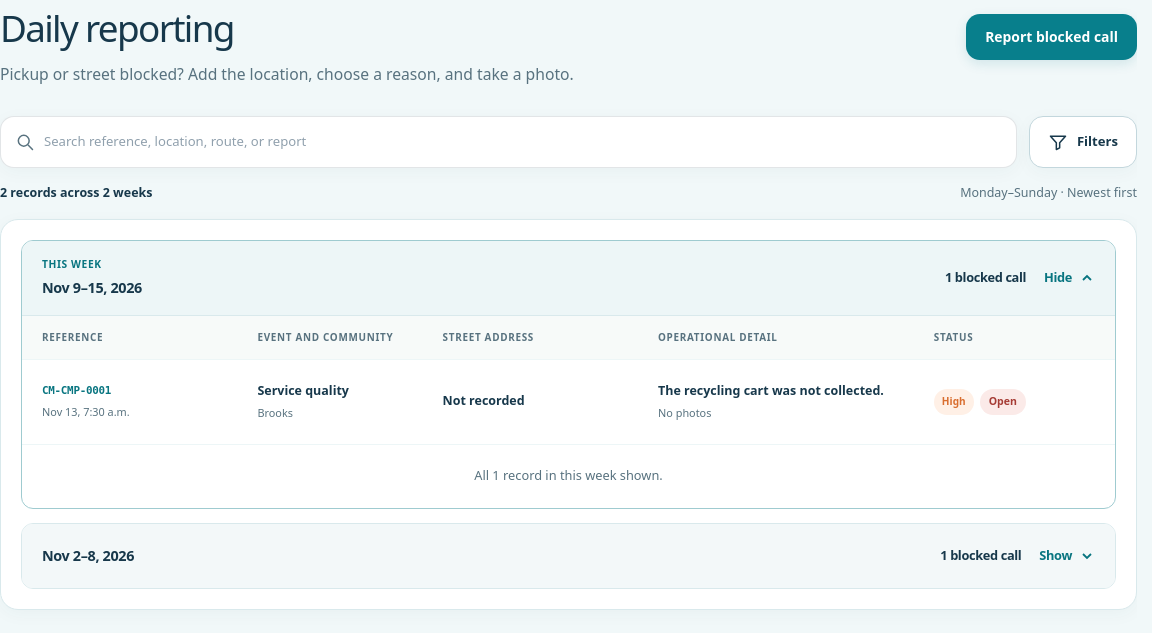
Scenario: lazy register › starts daily with no filters, opens this week, and loads older weeks only on demand
Expected: the button "CM-CMP-0001" is shown, [22,360,1115,444]
Click the button "Nov 2–8, 2026 1 blocked call Show" at (88, 555), box [22,524,1115,588]
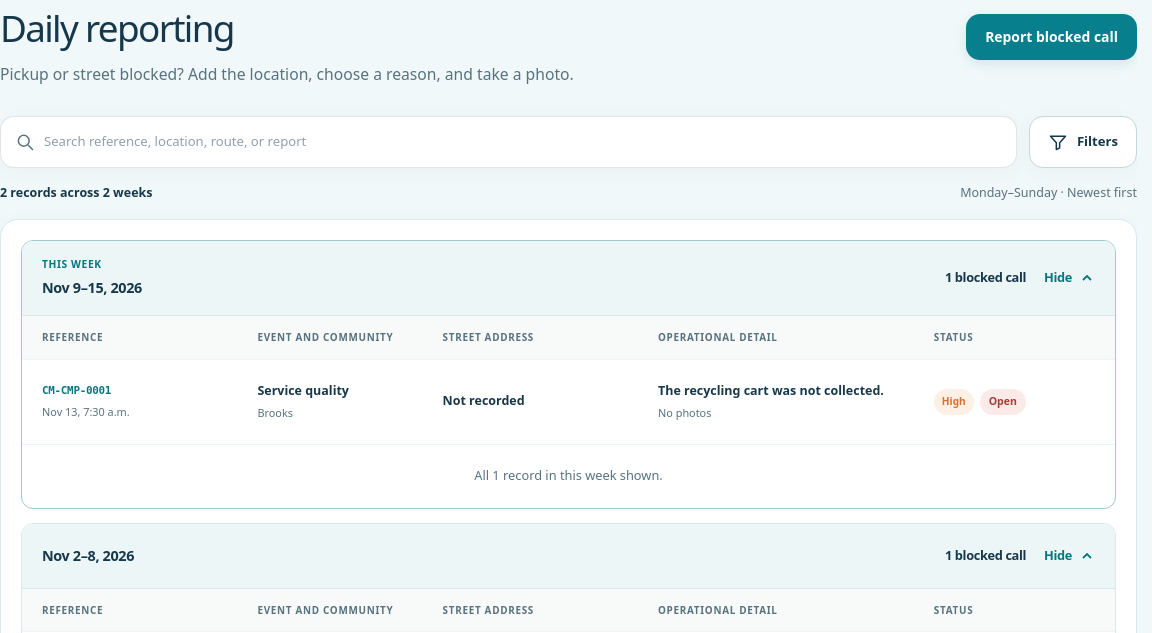
Click the button "Nov 2–8, 2026 1 blocked call Hide" at (88, 555), box [22,524,1115,588]
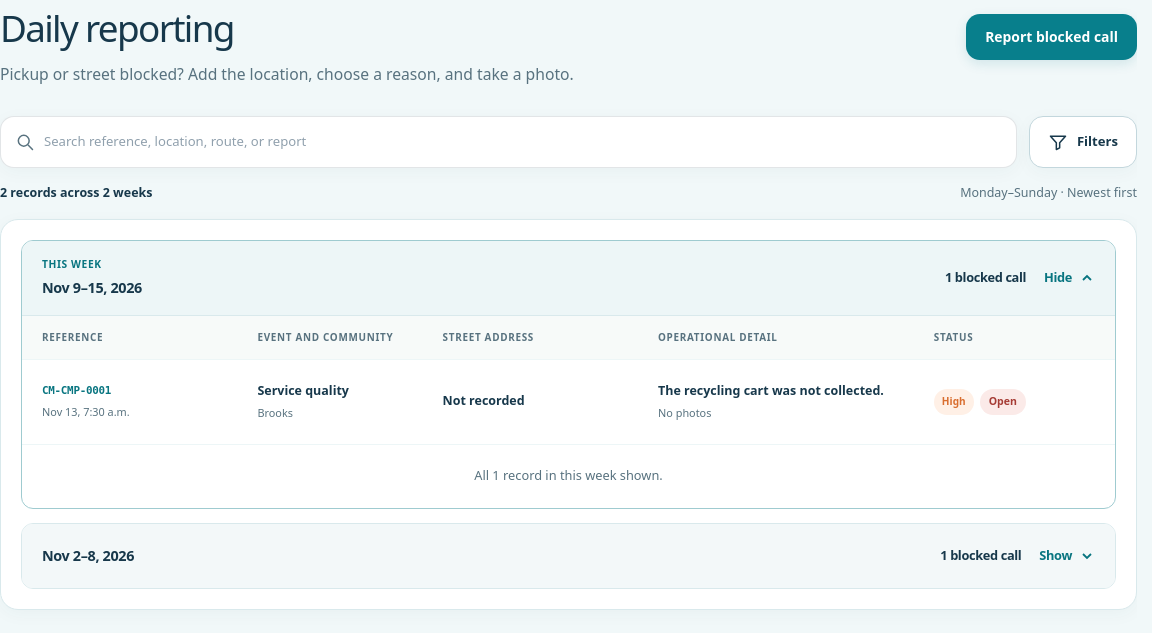
Click the button "Nov 2–8, 2026 1 blocked call Show" at (88, 555), box [22,524,1115,588]
(page scrolled)
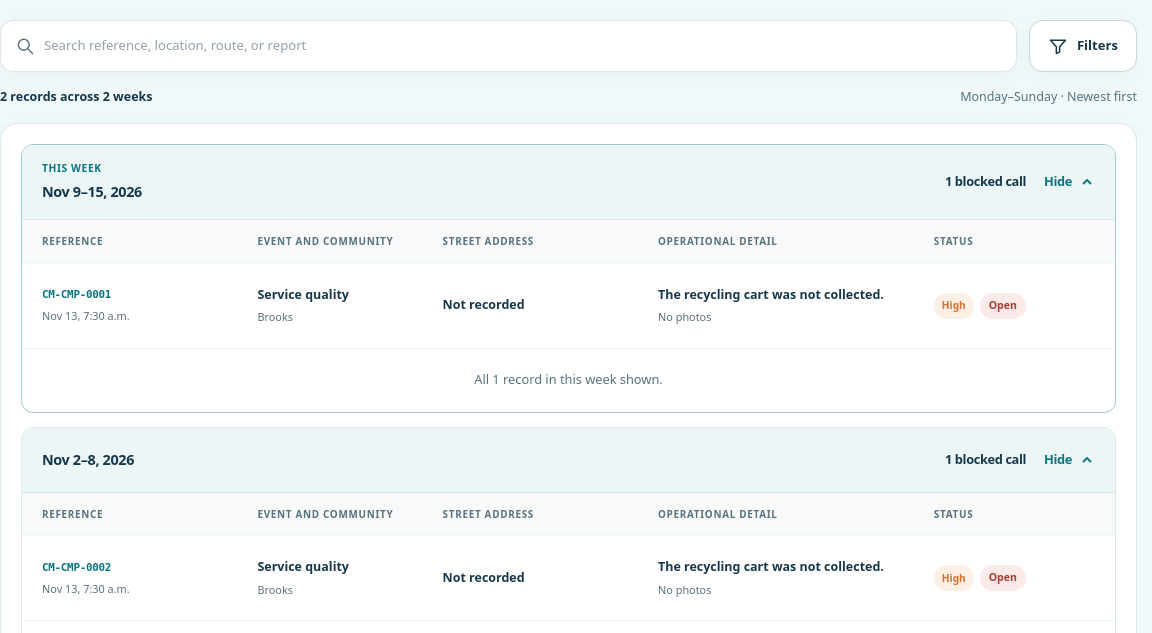
Result: the button "CM-CMP-0002" is shown at [22,536,1115,620]
